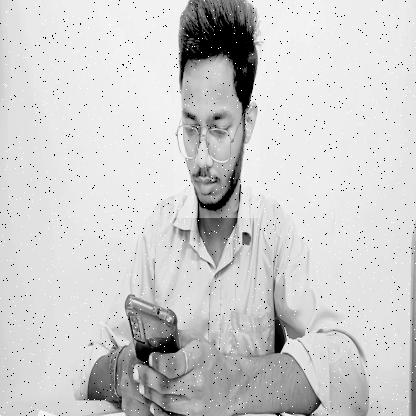Distracted: (174, 0, 260, 218)
